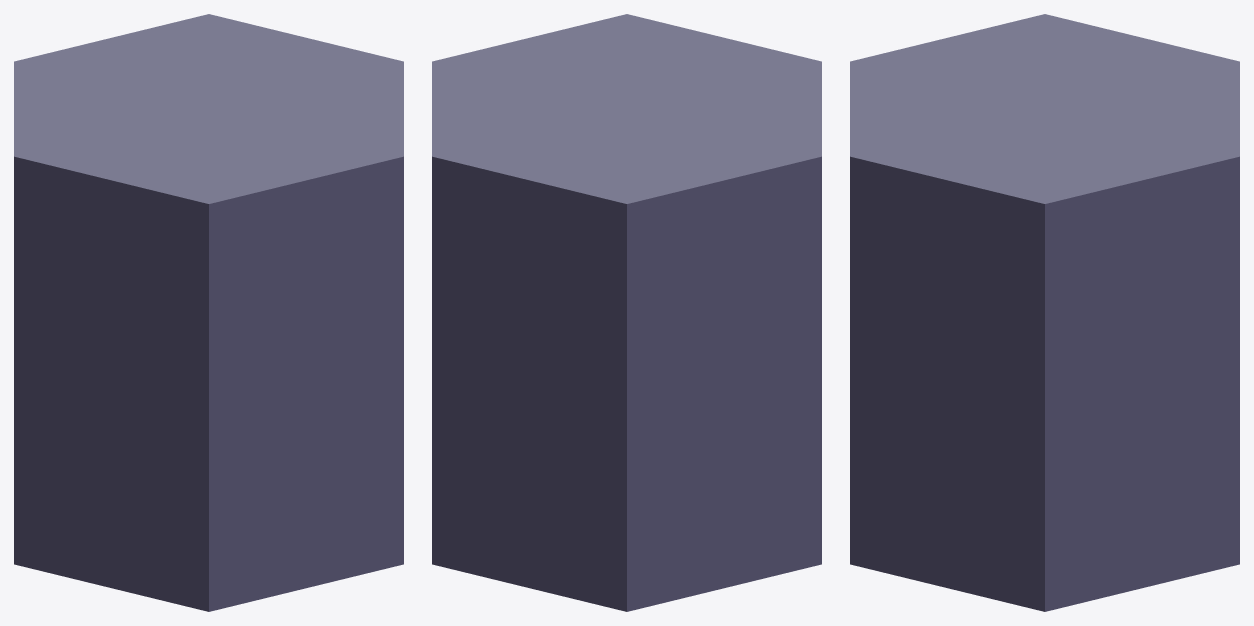
File: Island_Decor_geo.fbx
The picture shows the model from 3 angles, left to right: view 1: azimuth 30°, elevation 25°; view 2: azimuth 150°, elevation 25°; view 3: azimuth 270°, elevation 25°; orthographic projection.
Visible parts, largest first — view 1: Island_Decor_geo; view 2: Island_Decor_geo; view 3: Island_Decor_geo.
Part boxes in pixels (bbox=[...]): Island_Decor_geo: bbox=[14, 14, 403, 611]; Island_Decor_geo: bbox=[432, 14, 821, 611]; Island_Decor_geo: bbox=[850, 14, 1239, 611].
Bounding box in the file's own units: 600 × 600 × 520.
1 material, 1 textured.
